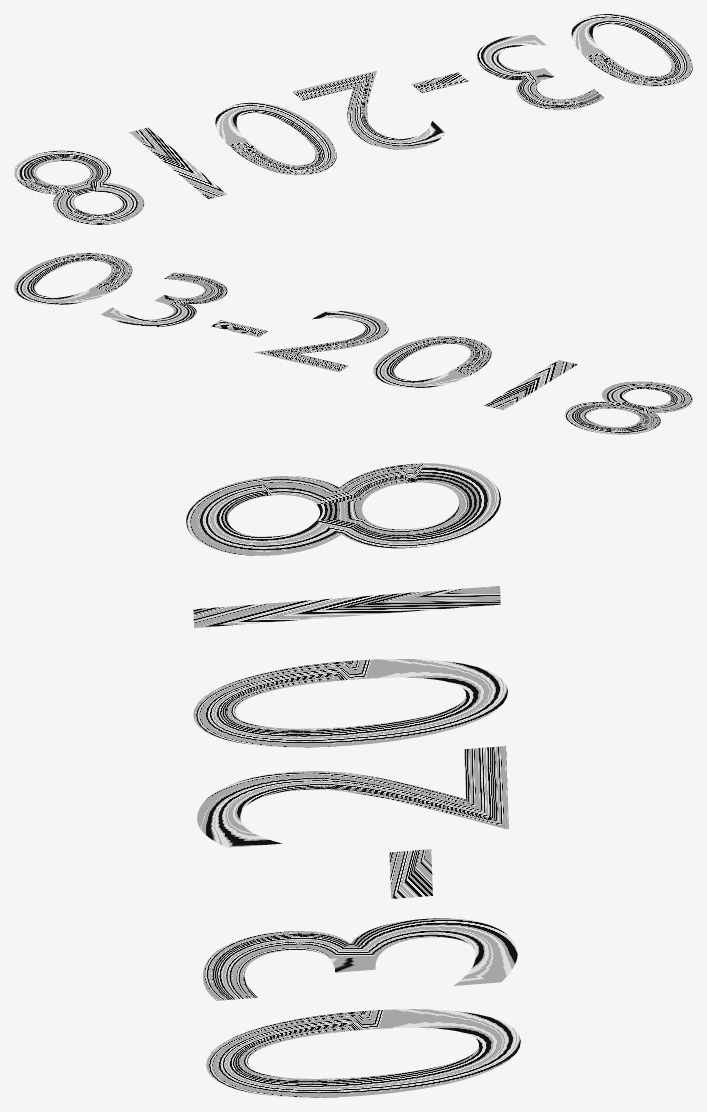
3 renders of one model, top to bottom at view 1: azimuth 30°, elevation 25°; view 2: azimuth 150°, elevation 25°; view 3: azimuth 270°, elevation 25°, orthographic. The views are drawn at different scales.
Parts seen in each view (by area): view 1: Text.003; view 2: Text.003; view 3: Text.003.
Part boxes in pixels (x1,y1,x2,y2): Text.003: [14, 14, 692, 224]; Text.003: [14, 253, 692, 434]; Text.003: [186, 463, 520, 1097].
Bounding box in the file's own units: 5.24 × 0.1031 × 1.19.
1 material, 1 textured.
